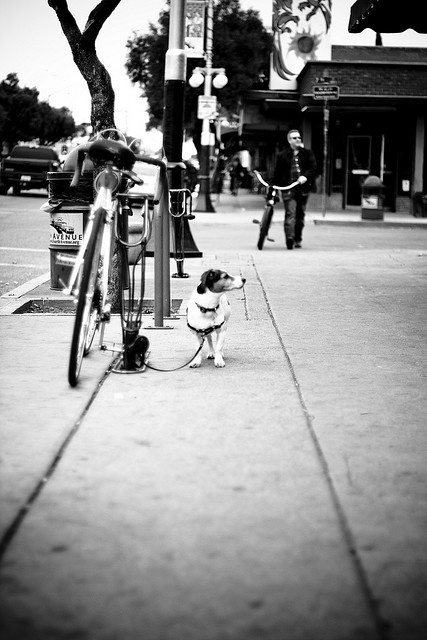non-vehicle: (65, 140, 168, 386), (252, 169, 299, 250)
